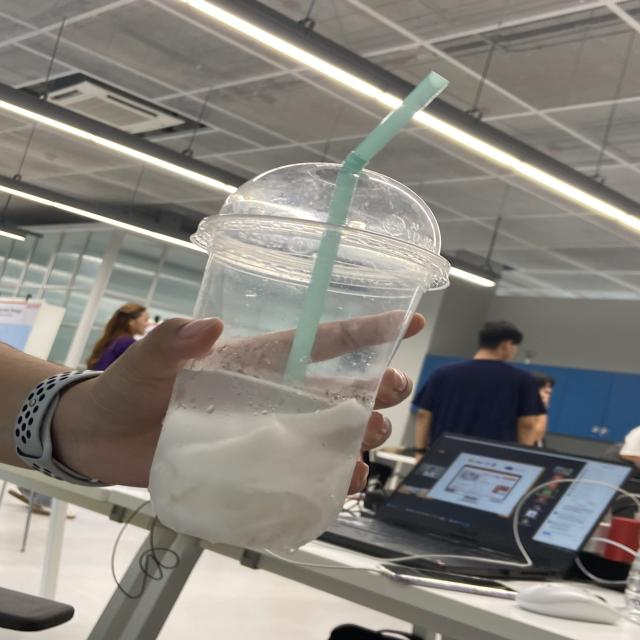cup: (147, 160, 450, 550)
